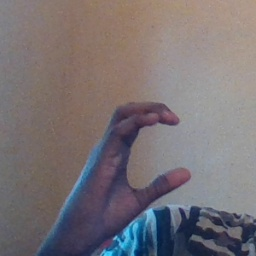C: (81, 95, 201, 208)
